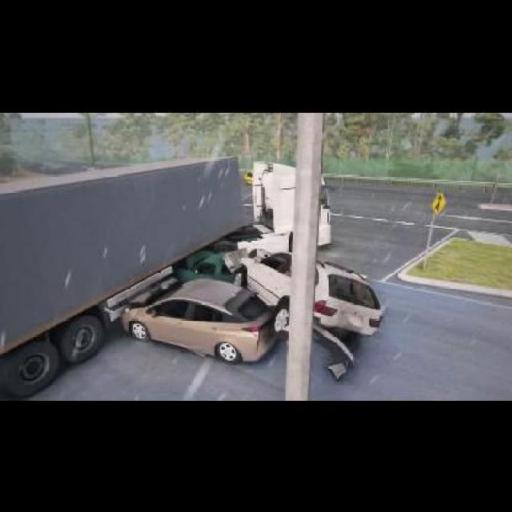小汽车撞小汽车: (0, 157, 384, 394)
